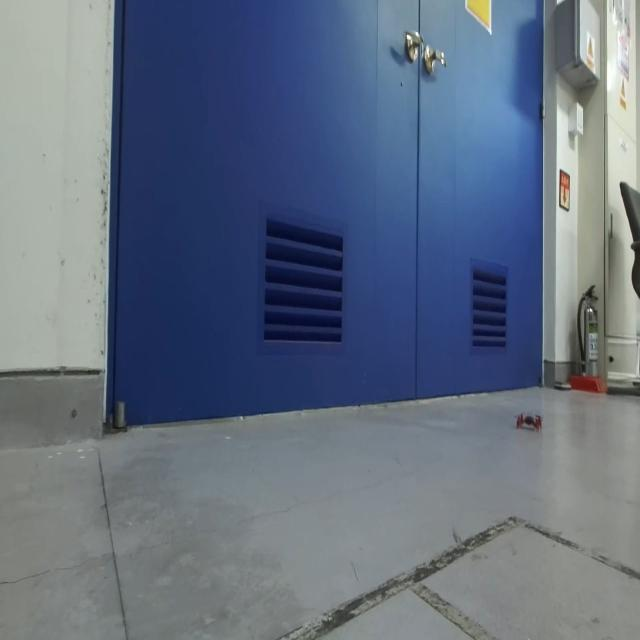crazyflie: (512, 405, 546, 436)
